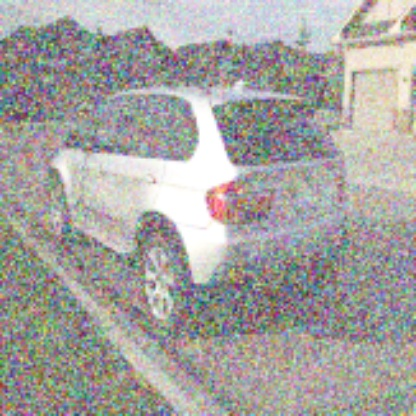Vehicle: (47, 78, 354, 337)
